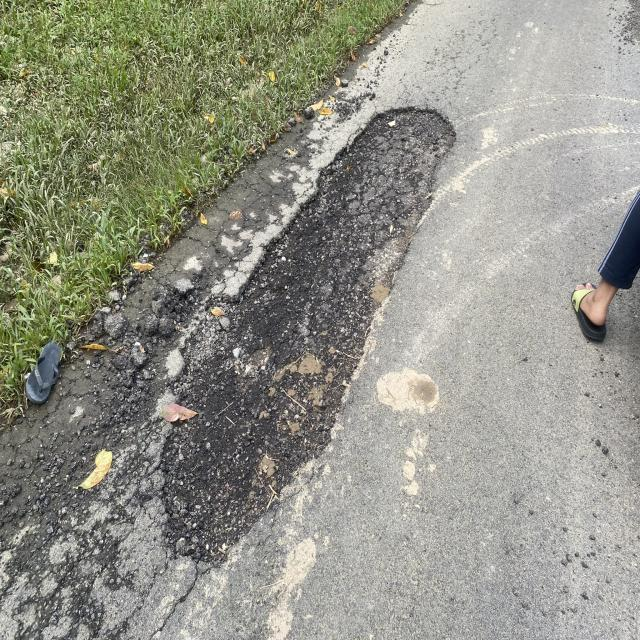pothole: (167, 47, 493, 592)
